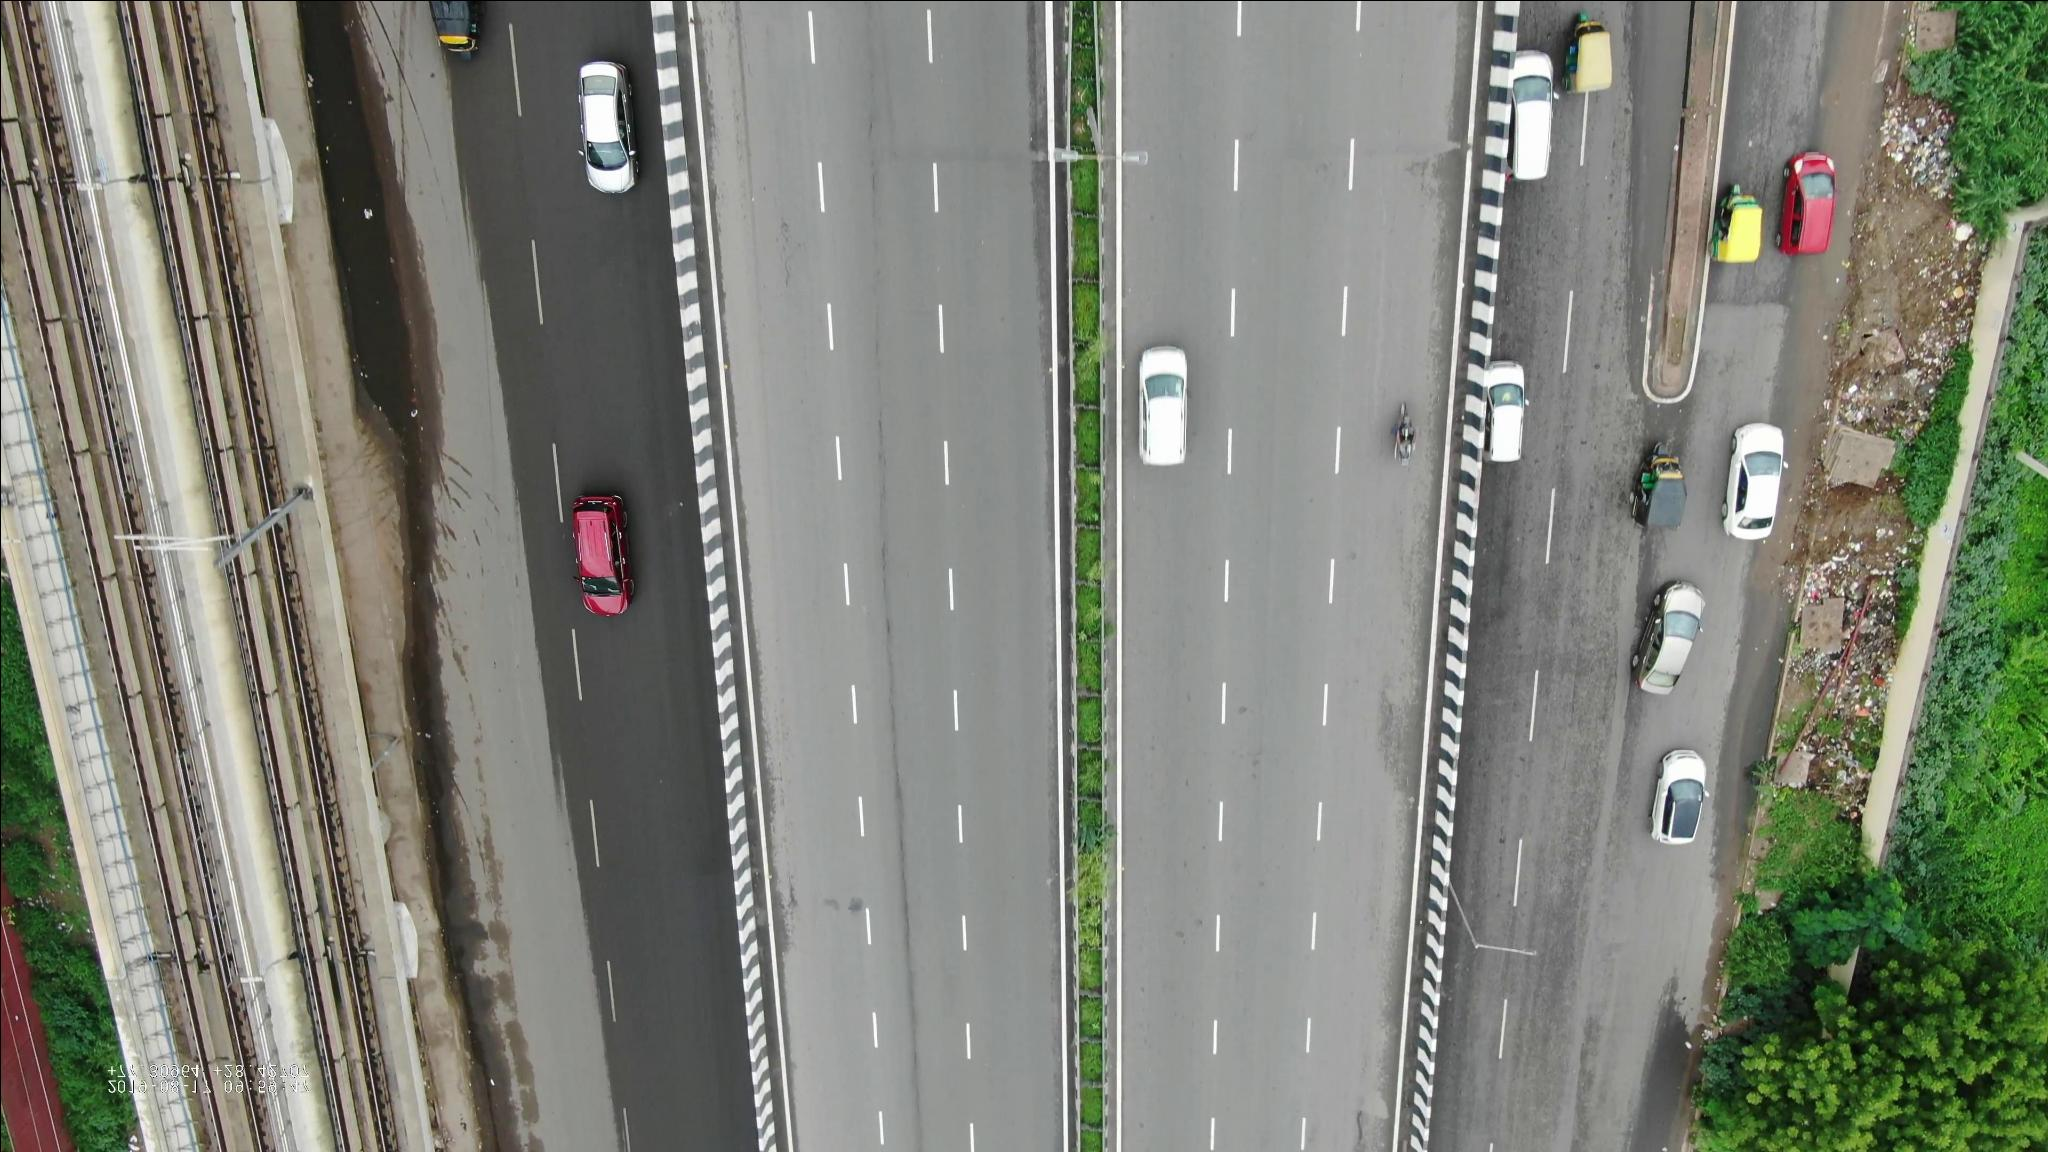Ravelling: (866, 485, 911, 966)
Road_side_garbage: (1777, 540, 1926, 800), (1824, 307, 1969, 459)
Waterlogging: (319, 104, 425, 425), (1615, 6, 1701, 301), (426, 820, 477, 897), (401, 570, 446, 633), (442, 913, 484, 969), (407, 720, 452, 771), (398, 665, 437, 703)
